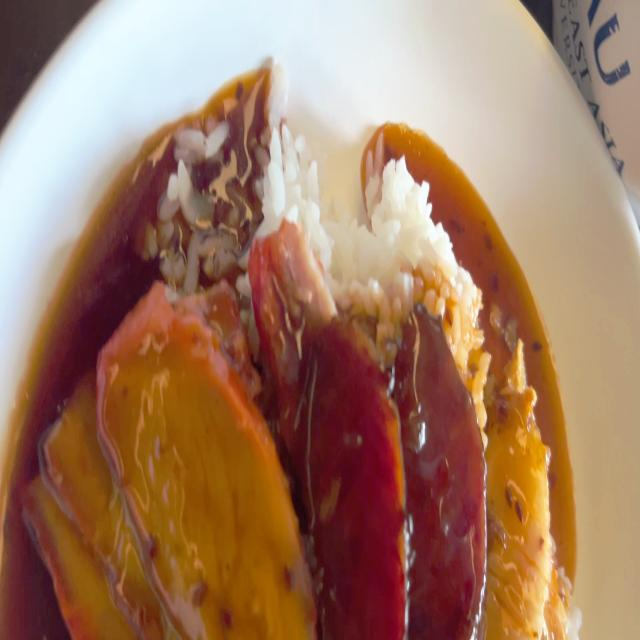chainese_sausage: (302, 294, 488, 640), (310, 313, 415, 640), (392, 304, 478, 640)
crispy_pork: (481, 331, 552, 640)
red_pork: (37, 287, 303, 640), (102, 295, 300, 630), (53, 382, 156, 620), (245, 210, 321, 395)
red_pork_and_crispy_pork: (21, 122, 582, 640)
rice: (160, 115, 470, 298)
